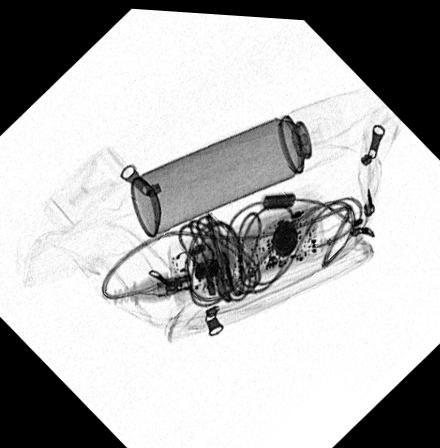Sprayer: (130, 92, 349, 235)
